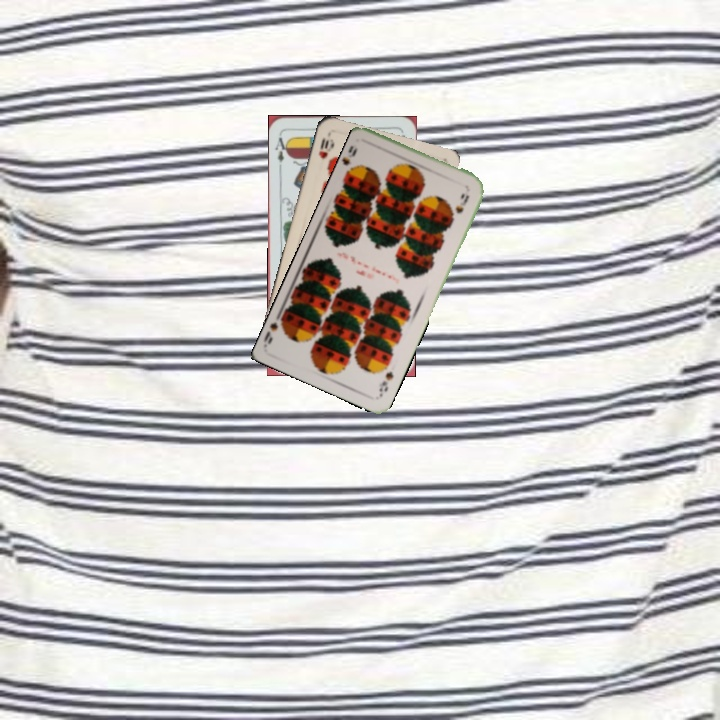EA: (271, 133, 291, 165)
H10: (315, 130, 336, 161)
S9: (375, 367, 396, 399), (342, 142, 360, 179)
